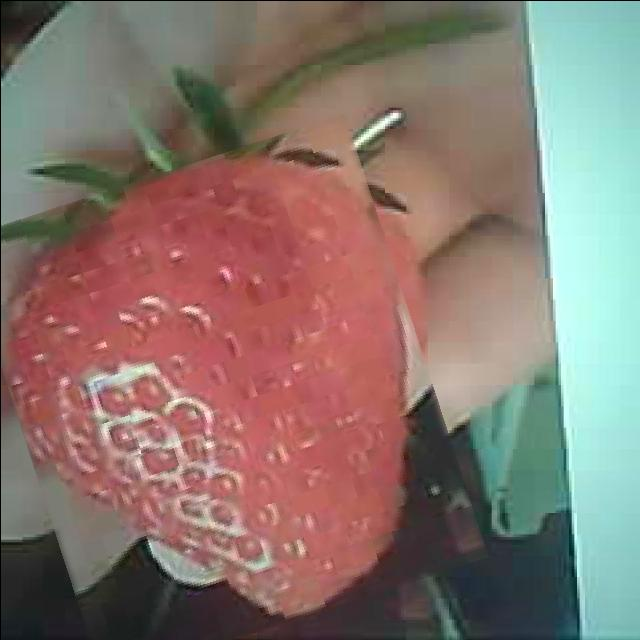strawberry: (0, 139, 457, 640)
